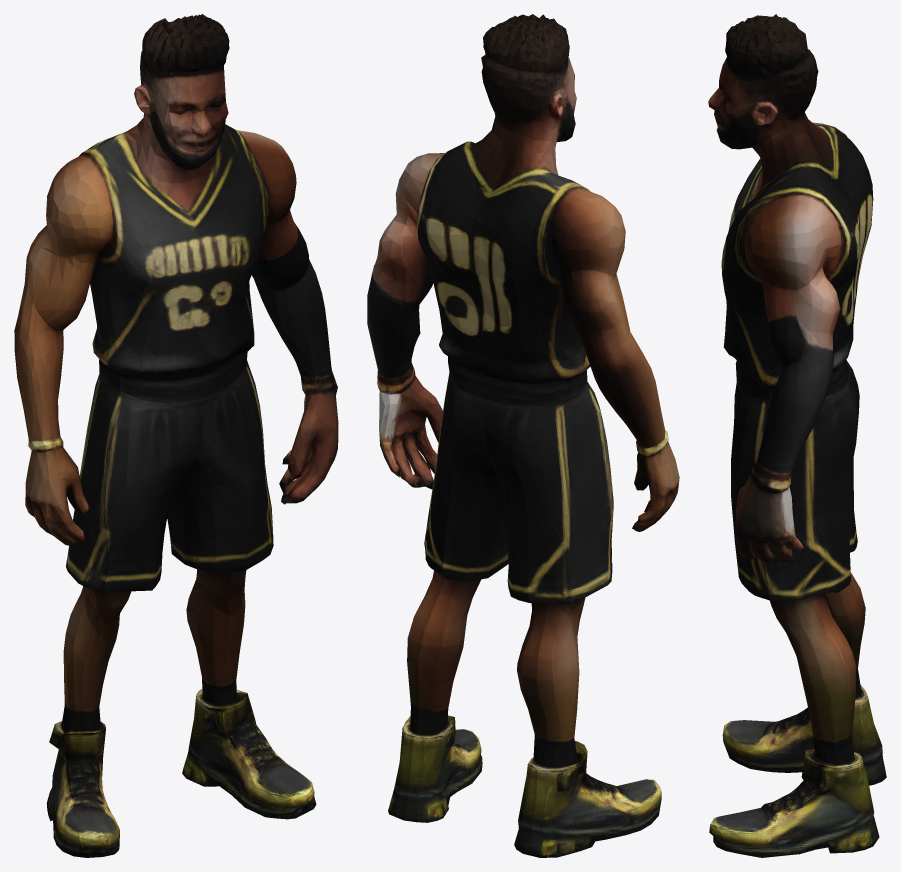
Rendered from hoops23_raw_backup.glb.
The picture shows the model from 3 angles, left to right: view 1: azimuth 30°, elevation 25°; view 2: azimuth 150°, elevation 25°; view 3: azimuth 270°, elevation 25°; orthographic projection. The views are drawn at different scales.
Visible parts, largest first — view 1: world; view 2: world; view 3: world.
Boxes of the visible parts, x1,y1,x2,y2 form: world: [14, 14, 338, 857]; world: [367, 14, 679, 857]; world: [708, 14, 886, 857].
Bounding box in the file's own units: 0.3988 × 1 × 0.2067.
Materials: 1 (1 with a texture image).
